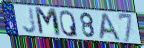7: (116, 12, 134, 44)
8: (80, 11, 96, 39)
A: (98, 12, 123, 42)
J: (21, 6, 38, 35)
M: (33, 6, 63, 38)
Q: (59, 10, 80, 38)
